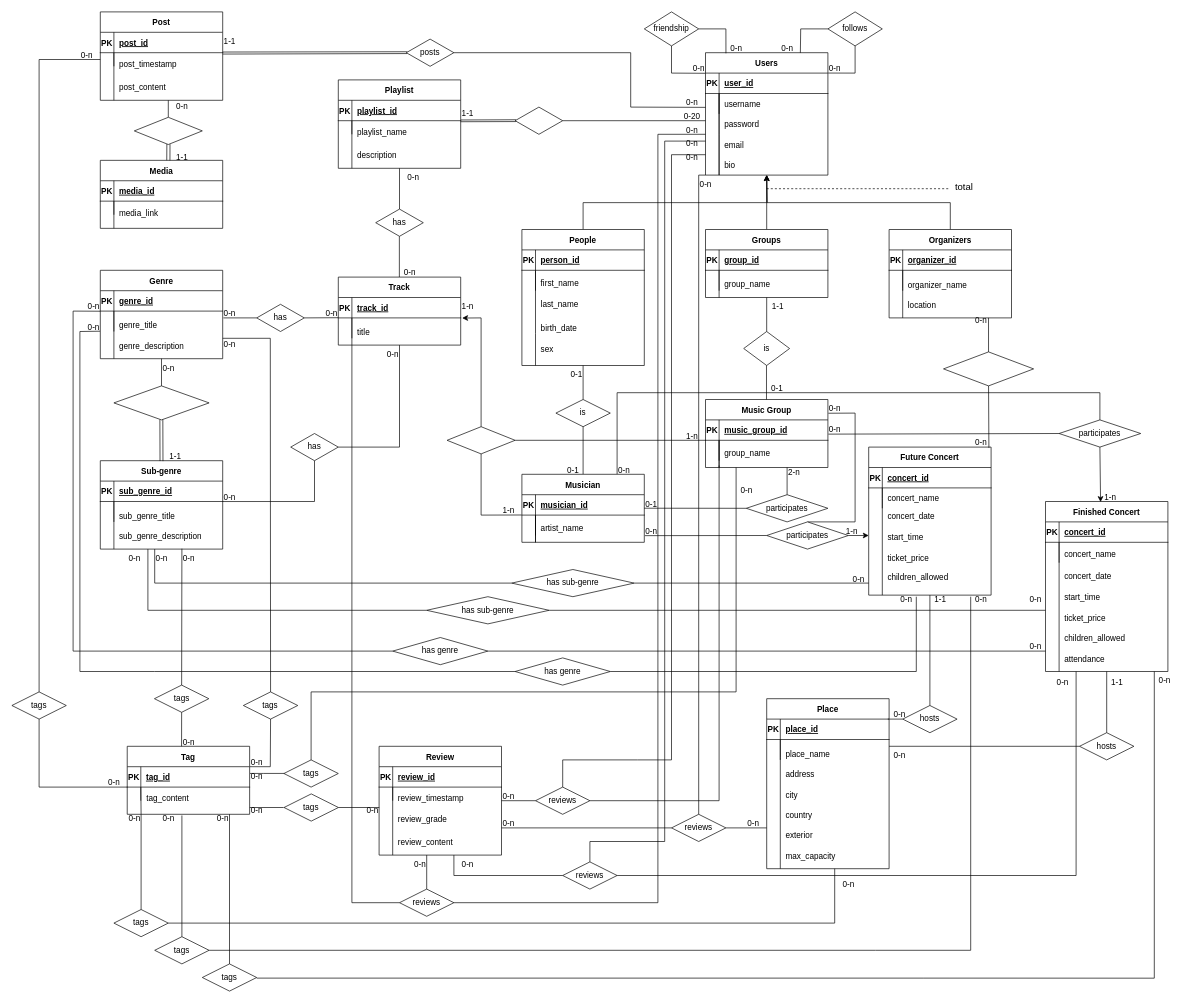
Some shapes in this 1193 by 1003 pixel diagram are drawn without their labels. Each missing label, with the centre of its shape:
announces: the point at 988,368
contains: the point at 168,130
creates: the point at 538,120
has parent genre: the point at 161,402
plays: the point at 480,440
